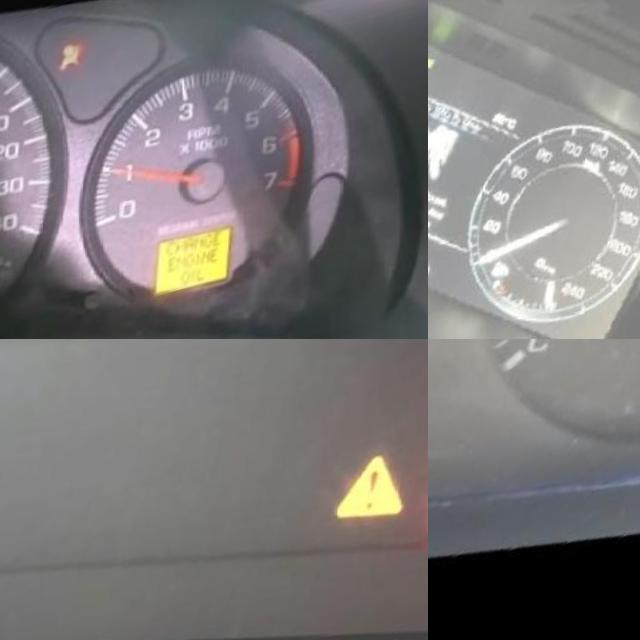Low fuel level: (486, 271, 509, 301)
